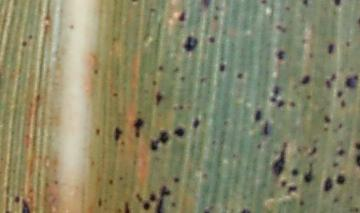tarspot: (270, 140, 288, 176), (149, 131, 169, 151), (182, 34, 199, 53), (131, 117, 144, 139), (345, 75, 360, 89), (321, 176, 333, 192), (304, 162, 313, 183), (154, 198, 166, 213), (262, 117, 271, 137), (20, 197, 31, 213), (113, 126, 123, 143), (293, 143, 306, 156), (172, 126, 185, 138), (306, 147, 319, 158), (155, 90, 163, 107), (159, 186, 170, 198), (326, 42, 336, 55), (177, 10, 186, 24), (276, 49, 286, 60), (310, 135, 319, 147), (191, 117, 199, 130), (199, 1, 212, 9), (276, 99, 286, 109), (134, 192, 143, 203), (301, 74, 310, 85), (275, 23, 286, 32), (300, 36, 309, 47), (254, 109, 262, 121), (123, 200, 130, 213), (218, 64, 227, 74), (322, 113, 331, 123), (335, 89, 344, 99), (269, 95, 278, 105), (197, 75, 207, 84), (67, 22, 76, 32), (336, 174, 344, 185), (331, 194, 339, 205), (273, 84, 280, 96), (348, 206, 360, 213), (328, 73, 337, 82), (20, 40, 29, 49), (111, 90, 120, 99), (148, 192, 156, 202), (206, 36, 216, 44), (355, 152, 360, 168), (94, 127, 102, 137), (148, 6, 158, 14), (346, 193, 354, 203), (239, 207, 252, 213), (287, 186, 298, 193), (142, 202, 150, 211), (156, 64, 165, 72), (96, 195, 102, 207), (34, 94, 43, 102), (200, 173, 209, 181), (221, 118, 229, 127), (300, 1, 310, 8), (324, 79, 331, 89), (178, 103, 185, 113), (298, 198, 305, 208), (339, 98, 345, 109), (213, 5, 221, 13), (51, 177, 59, 185), (290, 168, 299, 175), (256, 141, 263, 150), (337, 121, 344, 130), (150, 78, 157, 87), (331, 161, 340, 168), (321, 124, 328, 133), (336, 149, 346, 155), (13, 195, 20, 203), (234, 72, 242, 79), (212, 14, 219, 22), (210, 138, 217, 146), (26, 33, 35, 39), (92, 67, 98, 76), (259, 1, 269, 6), (353, 142, 360, 149), (280, 180, 287, 187), (107, 178, 114, 185), (305, 93, 312, 100), (170, 200, 176, 208), (172, 66, 178, 74), (307, 52, 315, 58), (333, 1, 342, 6), (173, 177, 180, 183), (289, 101, 295, 108), (344, 40, 350, 47), (284, 5, 291, 11), (179, 75, 185, 82), (202, 208, 210, 213), (118, 175, 124, 181), (357, 16, 360, 27), (3, 209, 9, 213), (128, 1, 138, 3)
